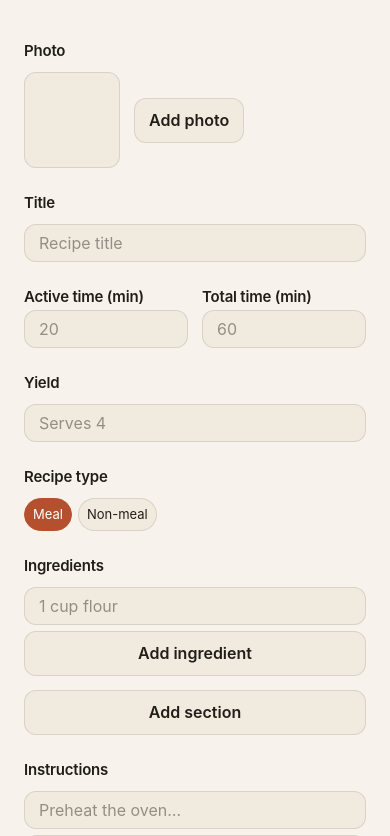
RecipeEditorScreen — create mode › adds and removes ingredient lines
This screenshot has width=390, height=836.
Step 1. Click the button with test id "recipe-ingredients-add-line-0" → (195, 654), box [24,631,366,676]
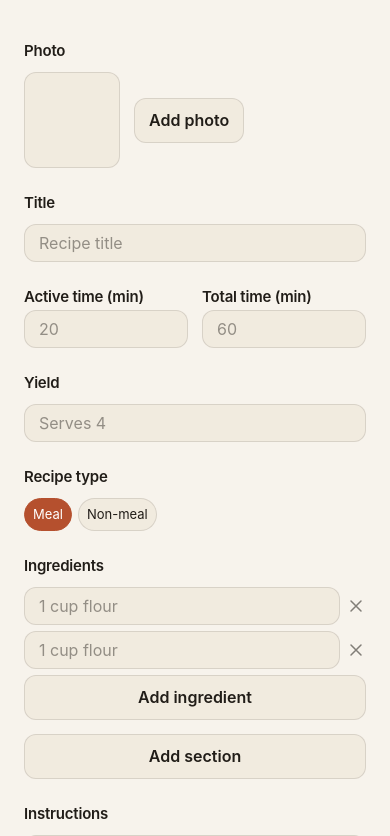
Check: the field with test id "recipe-ingredients-line-0-1" is shown, box [24,631,340,669]
Step 2. Click the button with test id "recipe-ingredients-remove-line-0-1" → (356, 650), box [346,640,366,660]
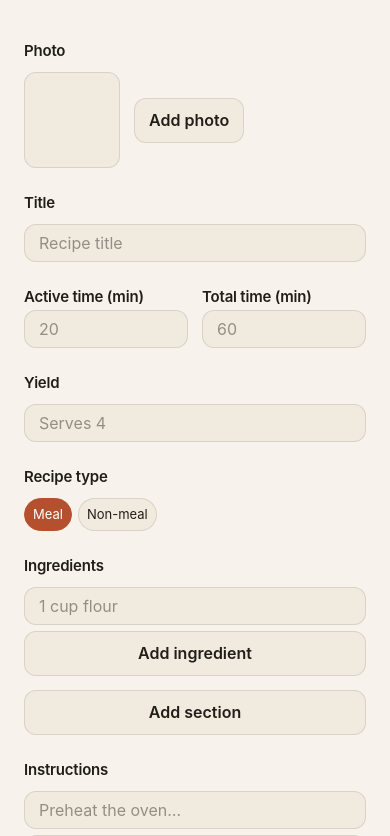
Check: the field with test id "recipe-ingredients-line-0-1" is gone
